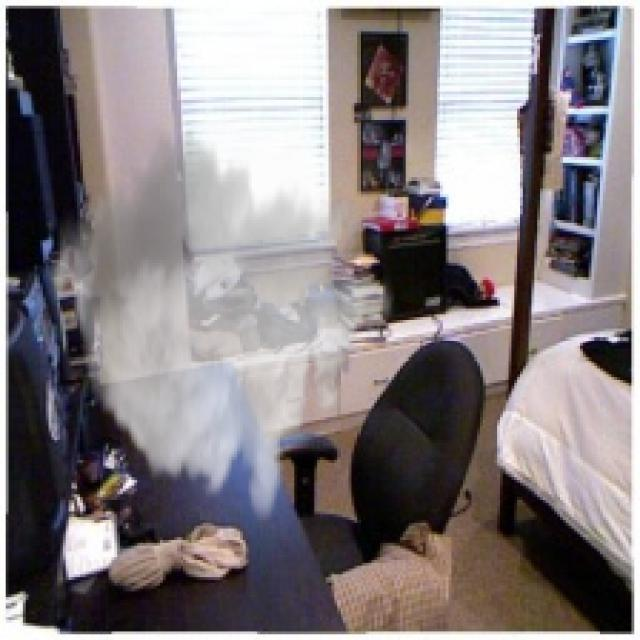Smoke: (46, 123, 394, 526)
